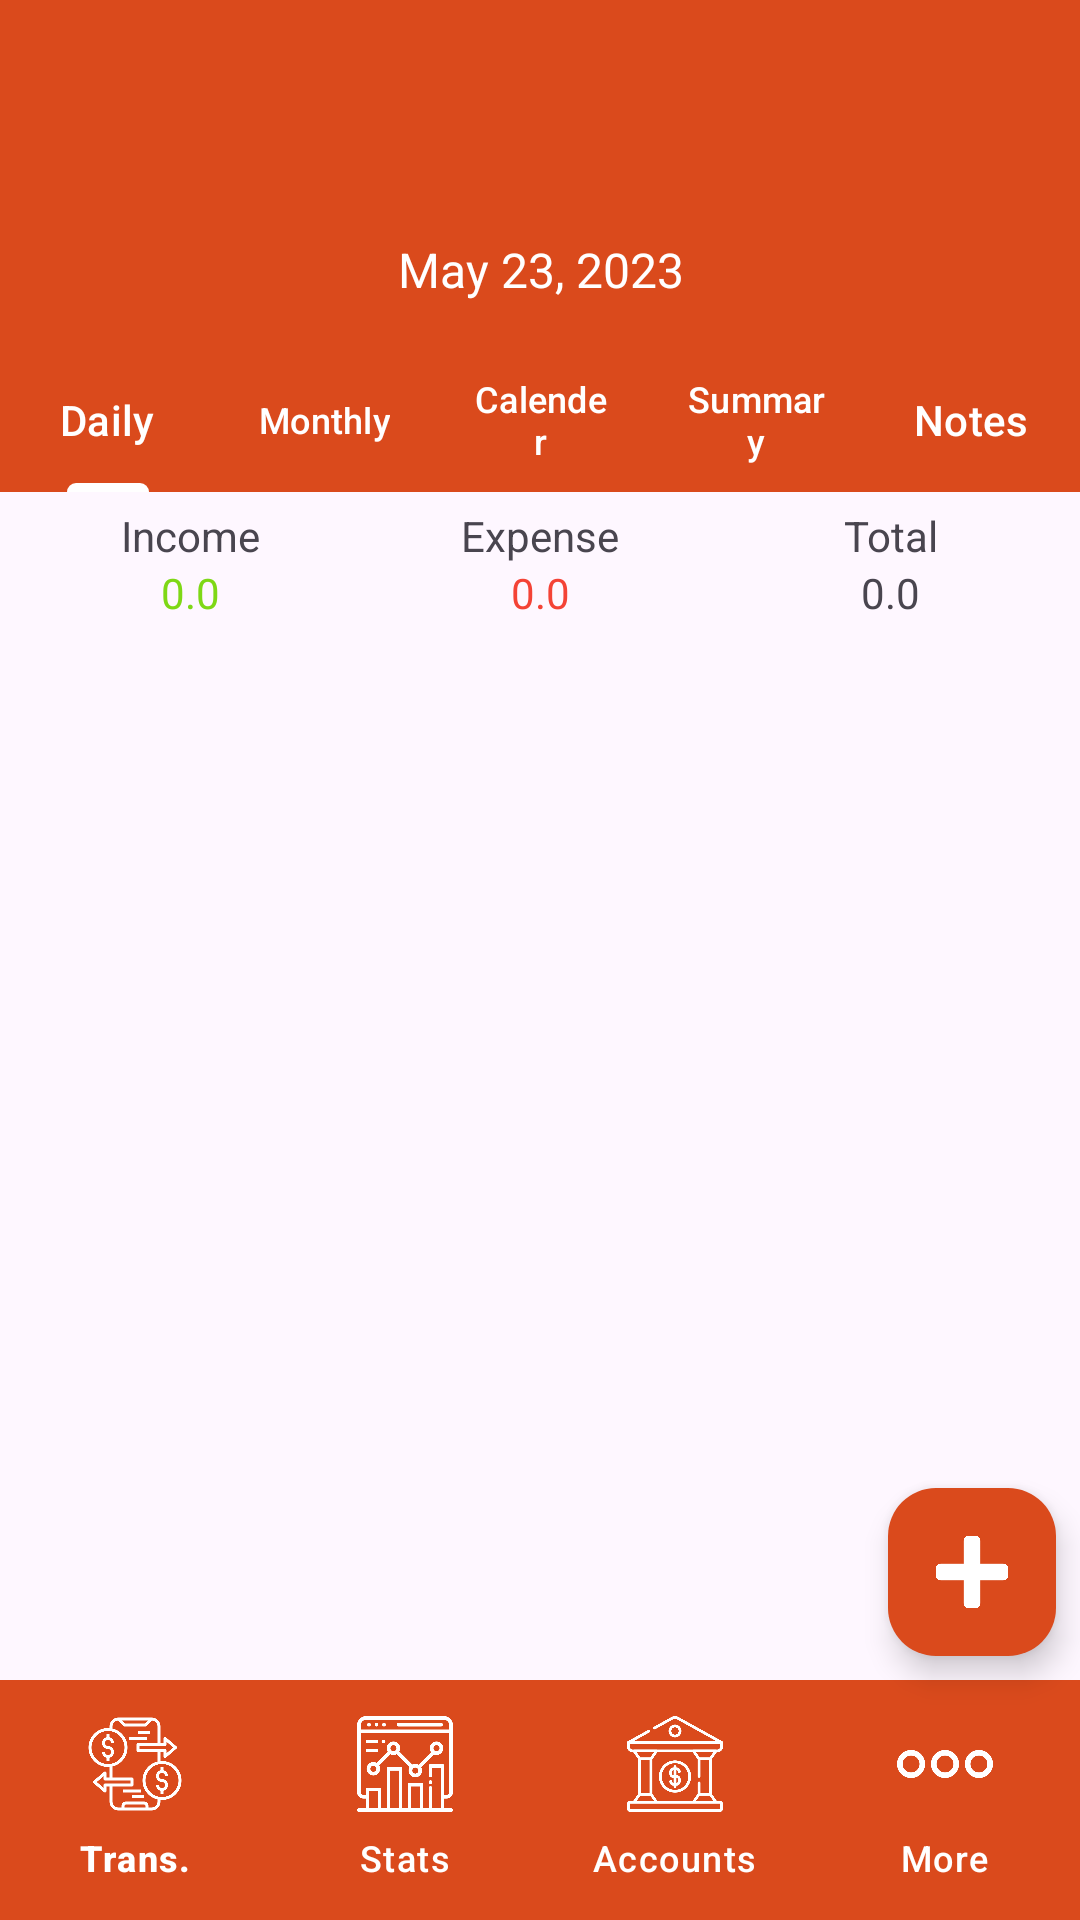

Icon click points for this 1080×1920 phone screenshot, format [x,y]:
add: [972,1572]
